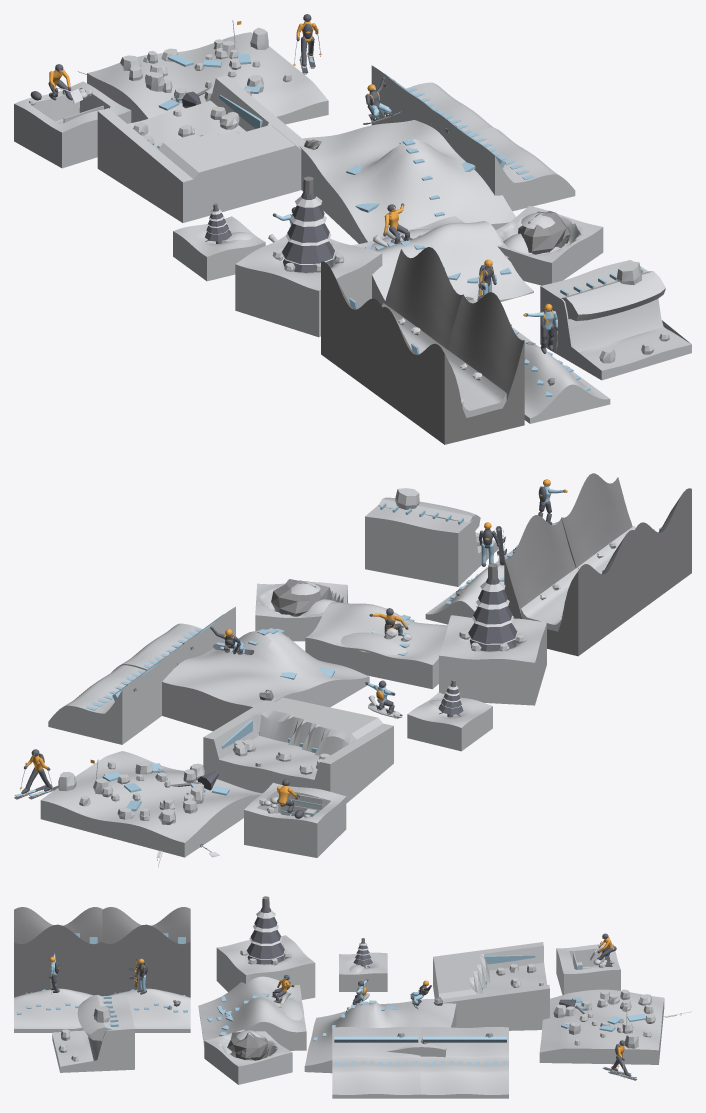
Rendered from backcountry-snowboarding-and-avalanche-s-d6e04474-starter-scene__18962.glb.
3 renders of one model, top to bottom at view 1: azimuth 30°, elevation 25°; view 2: azimuth 150°, elevation 25°; view 3: azimuth 270°, elevation 25°, orthographic. The views are drawn at different scales.
Visible parts, largest first — view 1: 017-crown-fracture-face/0, 013-natural-kicker-mound/0, 001-couloir-wall-segment/0, 006-cornice-block/0, 020-avalanche-debris-field/0, 000-couloir-wall-segment/0, 007-tree-well/0, 008-wind-lip/0, 018-snow-pit-wall/0, 015-cat-track-bench/0, 010-boulder-in-snow/0, 003-ridge-module/0 (+8 smaller); view 2: 017-crown-fracture-face/0, 020-avalanche-debris-field/0, 013-natural-kicker-mound/0, 000-couloir-wall-segment/0, 006-cornice-block/0, 001-couloir-wall-segment/0, 008-wind-lip/0, 007-tree-well/0, 016-cat-track-bench/0, 018-snow-pit-wall/0, 011-buried-sapling/0, 010-boulder-in-snow/0 (+7 smaller); view 3: 017-crown-fracture-face/0, 020-avalanche-debris-field/0, 001-couloir-wall-segment/0, 000-couloir-wall-segment/0, 015-cat-track-bench/0, 016-cat-track-bench/0, 006-cornice-block/0, 008-wind-lip/0, 013-natural-kicker-mound/0, 007-tree-well/0, 010-boulder-in-snow/0, 003-ridge-module/0 (+11 smaller).
Boxes of the visible parts, bbox=[...] form: 017-crown-fracture-face/0: bbox=[97, 75, 305, 222]; 013-natural-kicker-mound/0: bbox=[299, 118, 515, 243]; 001-couloir-wall-segment/0: bbox=[382, 292, 524, 444]; 006-cornice-block/0: bbox=[540, 260, 691, 380]; 020-avalanche-debris-field/0: bbox=[87, 27, 328, 124]; 000-couloir-wall-segment/0: bbox=[321, 247, 462, 399]; 007-tree-well/0: bbox=[235, 196, 382, 337]; 008-wind-lip/0: bbox=[351, 216, 533, 305]; 018-snow-pit-wall/0: bbox=[14, 81, 131, 168]; 015-cat-track-bench/0: bbox=[433, 110, 575, 211]; 010-boulder-in-snow/0: bbox=[495, 206, 603, 285]; 003-ridge-module/0: bbox=[524, 343, 610, 423]; 017-crown-fracture-face/0: bbox=[203, 697, 393, 803]; 020-avalanche-debris-field/0: bbox=[40, 751, 262, 857]; 013-natural-kicker-mound/0: bbox=[162, 629, 369, 731]; 000-couloir-wall-segment/0: bbox=[504, 515, 634, 656]; 006-cornice-block/0: bbox=[365, 488, 497, 586]; 001-couloir-wall-segment/0: bbox=[561, 473, 691, 614]; 008-wind-lip/0: bbox=[305, 602, 447, 689]; 007-tree-well/0: bbox=[439, 581, 546, 705]; 016-cat-track-bench/0: bbox=[48, 648, 179, 744]; 018-snow-pit-wall/0: bbox=[244, 782, 346, 857]; 011-buried-sapling/0: bbox=[407, 685, 492, 751]; 010-boulder-in-snow/0: bbox=[255, 581, 347, 641]; 017-crown-fracture-face/0: bbox=[433, 942, 549, 1030]; 020-avalanche-debris-field/0: bbox=[539, 989, 664, 1064]; 001-couloir-wall-segment/0: bbox=[14, 907, 102, 997]; 000-couloir-wall-segment/0: bbox=[102, 907, 190, 997]; 015-cat-track-bench/0: bbox=[332, 1027, 420, 1098]; 016-cat-track-bench/0: bbox=[420, 1027, 508, 1098]; 006-cornice-block/0: bbox=[52, 994, 134, 1072]; 008-wind-lip/0: bbox=[198, 976, 306, 1050]; 013-natural-kicker-mound/0: bbox=[304, 999, 456, 1073]; 007-tree-well/0: bbox=[216, 910, 315, 999]; 010-boulder-in-snow/0: bbox=[204, 1029, 292, 1084]; 003-ridge-module/0: bbox=[14, 988, 93, 1032].
Size of the model in its own units: 13.93 by 4.56 by 30.67.
